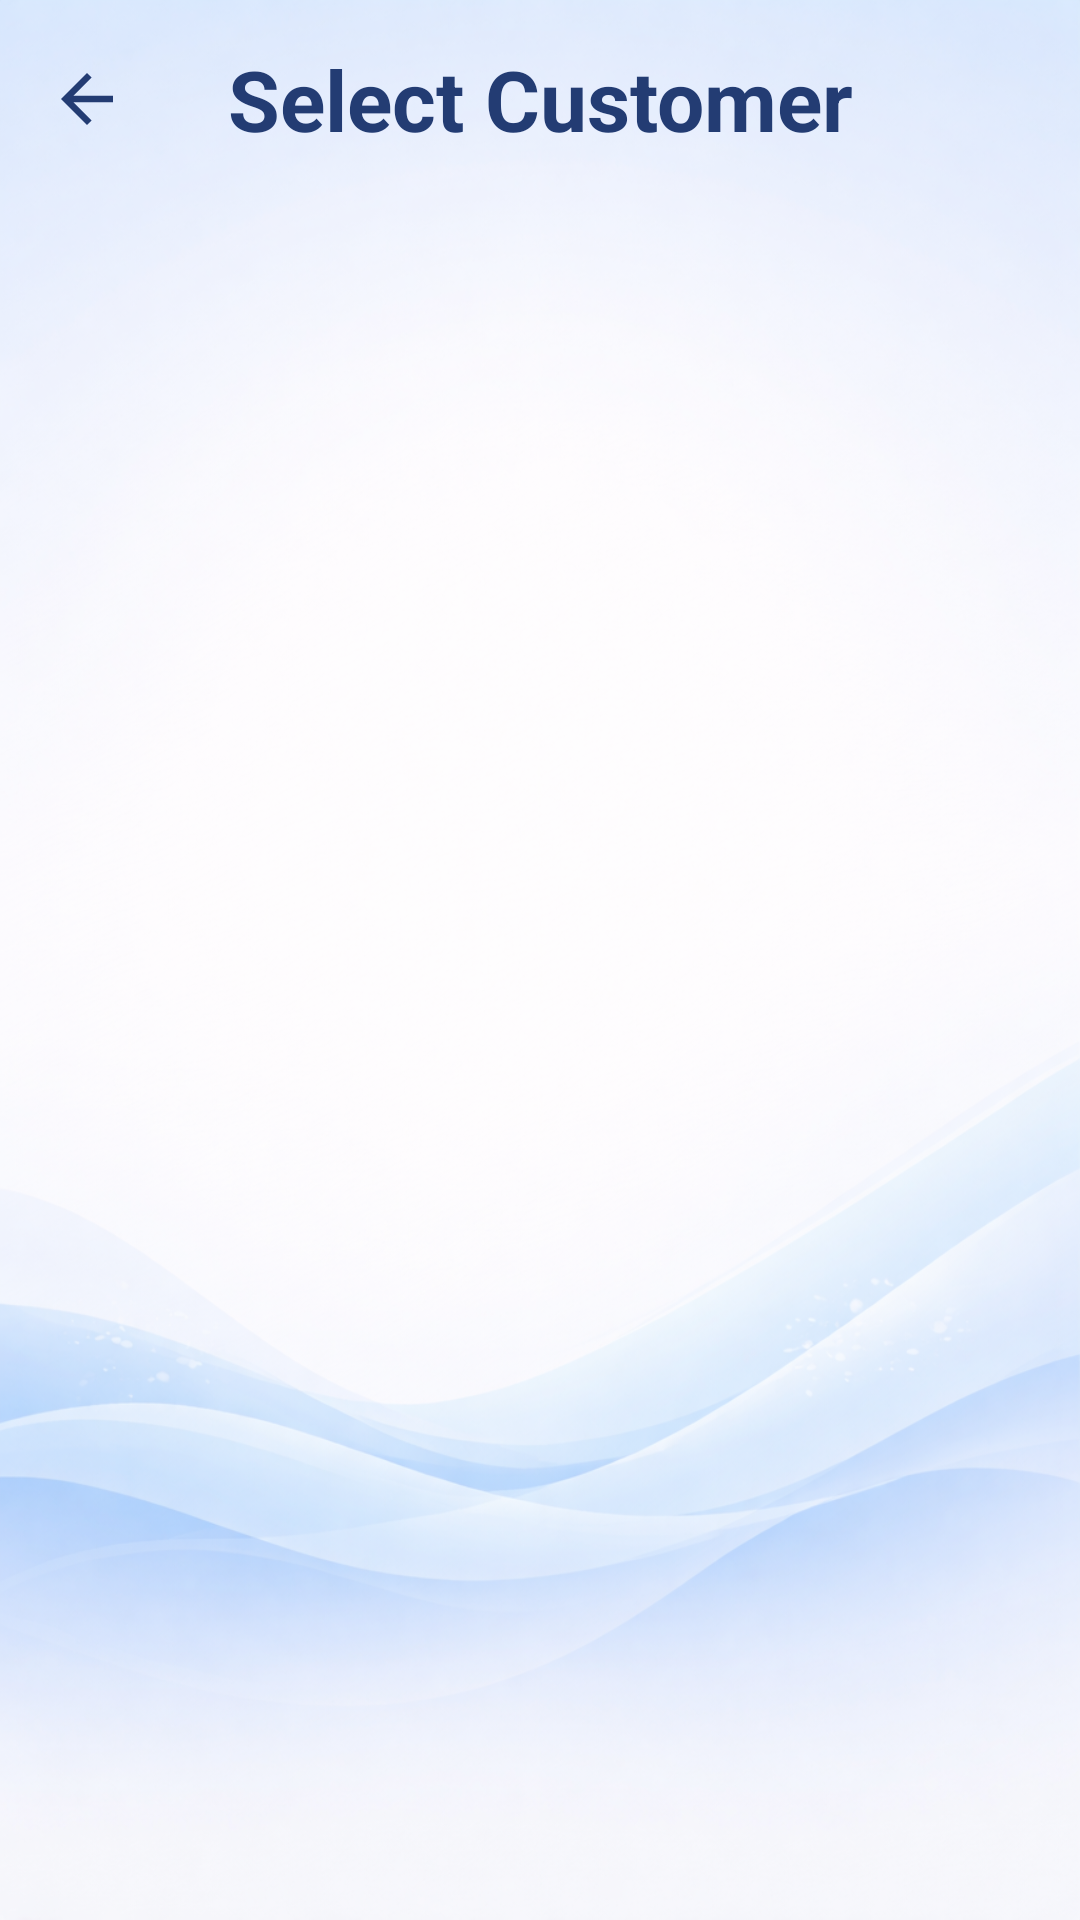

Screen size 1080px x 1920px. Icon name, then its center in pixels as point (x, y):
back arrow: point (87, 99)
